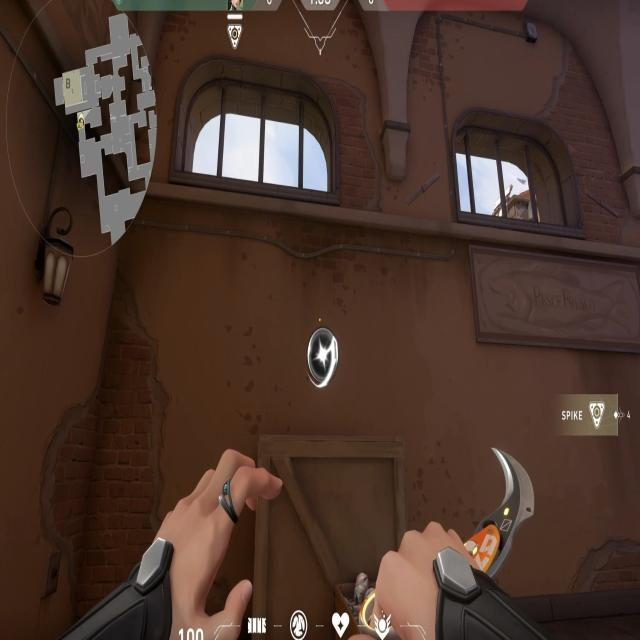B_Main_Wallbang: (235, 319, 432, 640)
Throwables: (168, 45, 344, 229), (444, 91, 586, 255)
